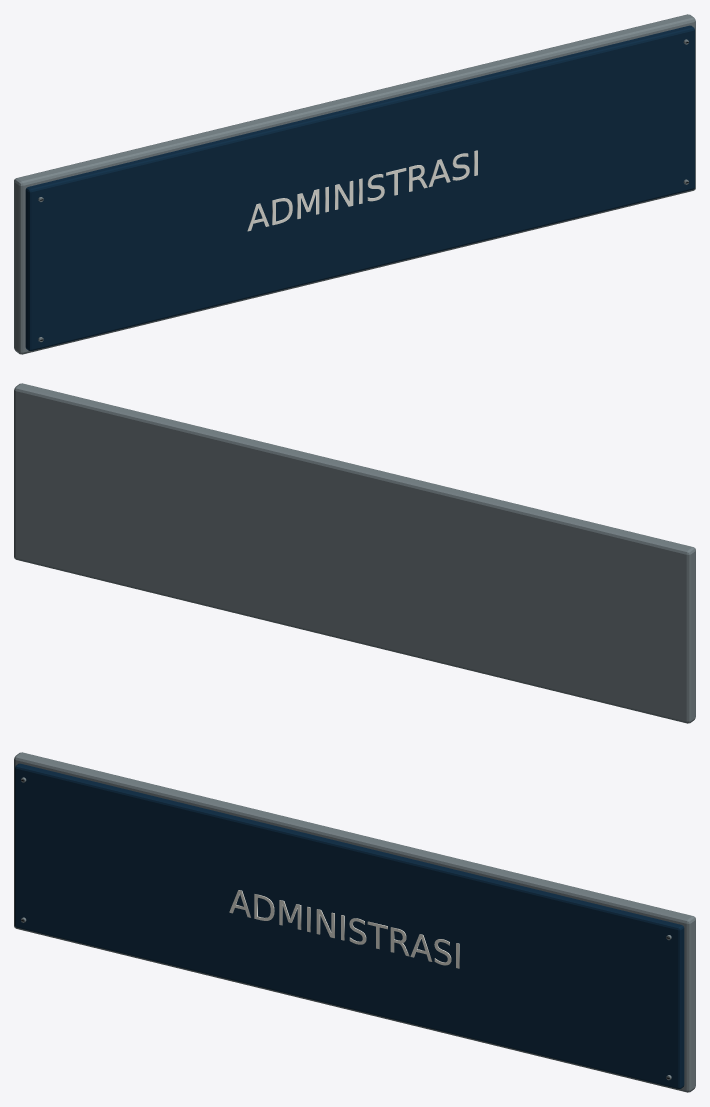
File: OAA_Papan_Ruang_Administrasi.fbx
3 views of the same model, one above another, from view 1: azimuth 30°, elevation 25°; view 2: azimuth 150°, elevation 25°; view 3: azimuth 330°, elevation 25° (orthographic).
Parts seen in each view (by area): view 1: Body; view 2: Body; view 3: Body.
Boxes of the visible parts, x1,y1,x2,y2 form: Body: [14, 14, 695, 354]; Body: [14, 383, 695, 723]; Body: [14, 752, 695, 1092].
Size of the model in its own units: 0.9 by 0.22 by 0.0312.
